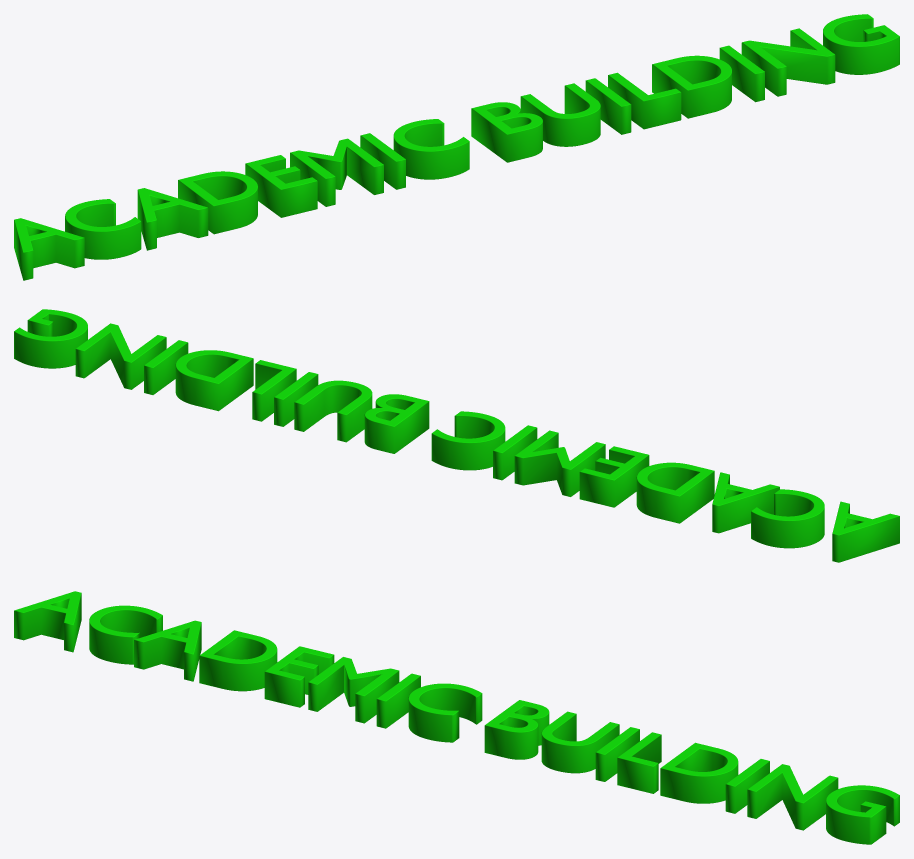
File: academic_building.glb
The picture shows the model from 3 angles, top to bottom: view 1: azimuth 30°, elevation 25°; view 2: azimuth 150°, elevation 25°; view 3: azimuth 330°, elevation 25°; orthographic projection. The views are drawn at different scales.
Visible parts, largest first — view 1: Text.005; view 2: Text.005; view 3: Text.005.
Part boxes in pixels (x1,y1,x2,y2): Text.005: (14,14,899,280); Text.005: (14,309,899,562); Text.005: (14,591,899,844).
Bounding box in the file's own units: 19.96 × 0.62 × 1.45.
